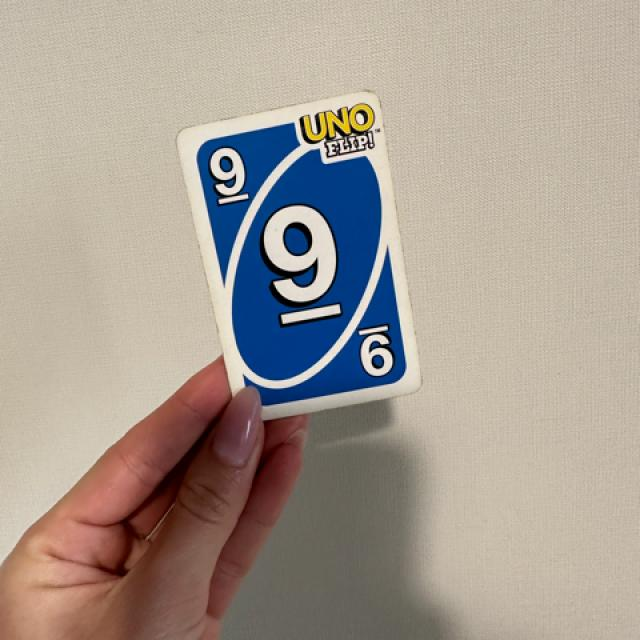lblue-9: (198, 138, 258, 214)
